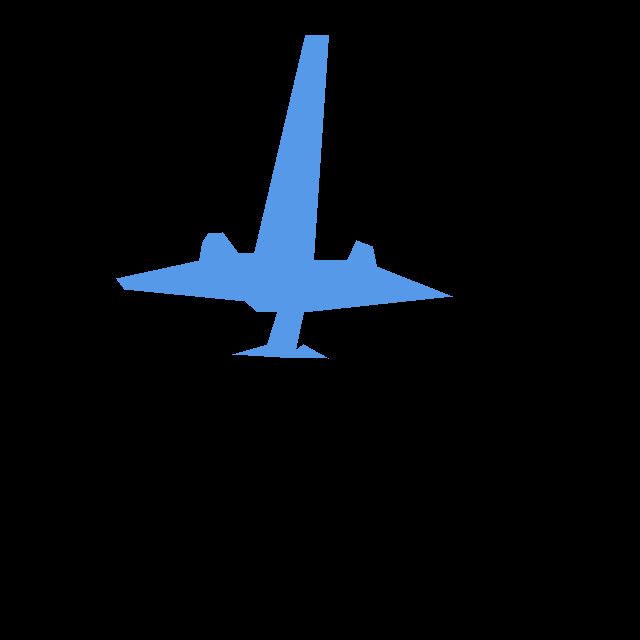Airplane: (116, 35, 453, 359)
